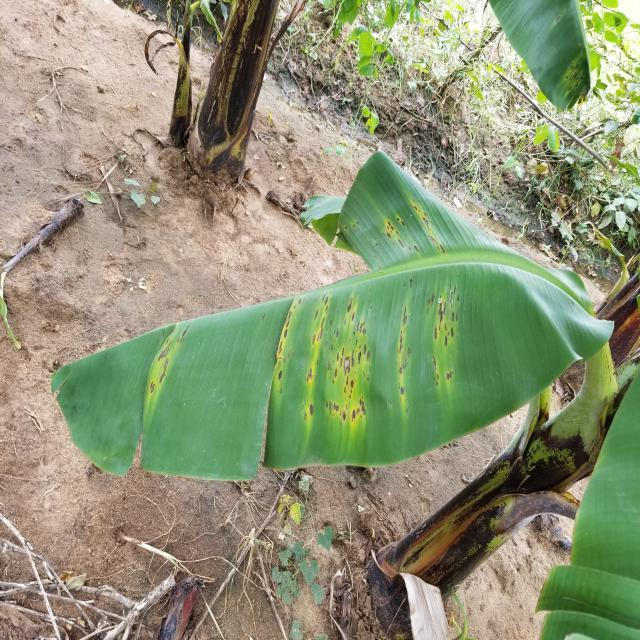Early_rust: (45, 164, 502, 476), (555, 41, 598, 132)
